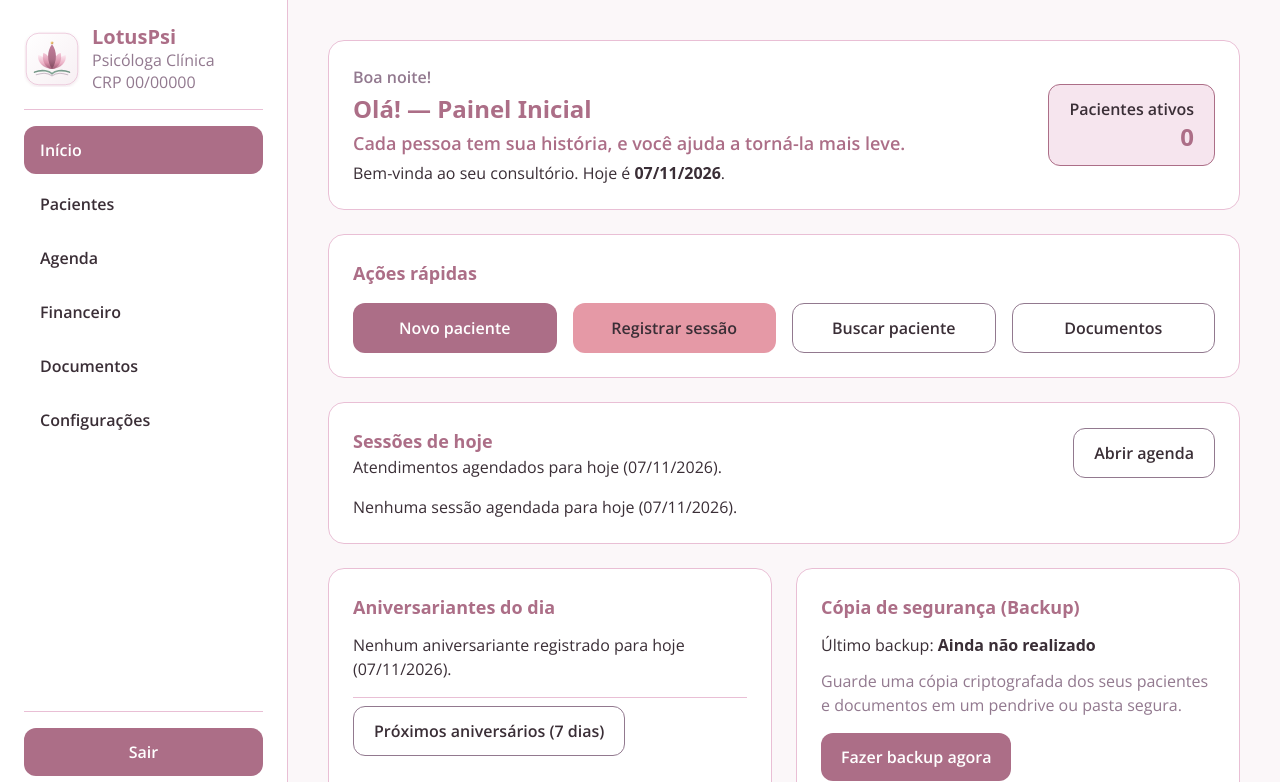
Scenario: Painel Inicial T04 (F2-T3) › navega pelos atalhos do painel em apenas 1 clique para cada área principal
Expected: the heading "Olá! — Painel Inicial" is shown, x1=353 y1=92 x2=592 y2=125
// 1 clique no atalho "Novo paciente" leva direto ao formulário T06
Click the button "Novo paciente" at coordinates (455, 328), box x1=353 y1=303 x2=556 y2=353
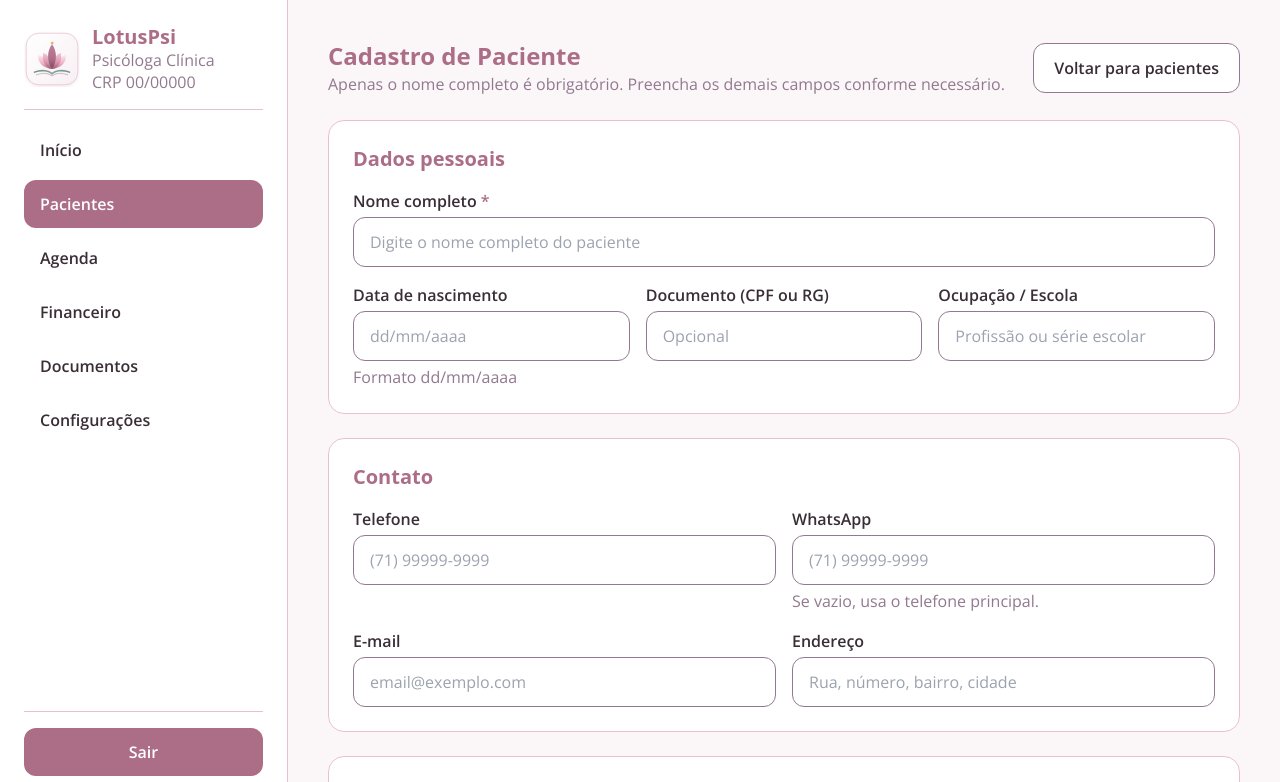
Now the heading "Cadastro de Paciente" is shown, box x1=328 y1=39 x2=581 y2=72
// Volta ao Início em 1 clique na Sidebar
Click the link "Início" at coordinates (61, 150), box x1=40 y1=139 x2=82 y2=161
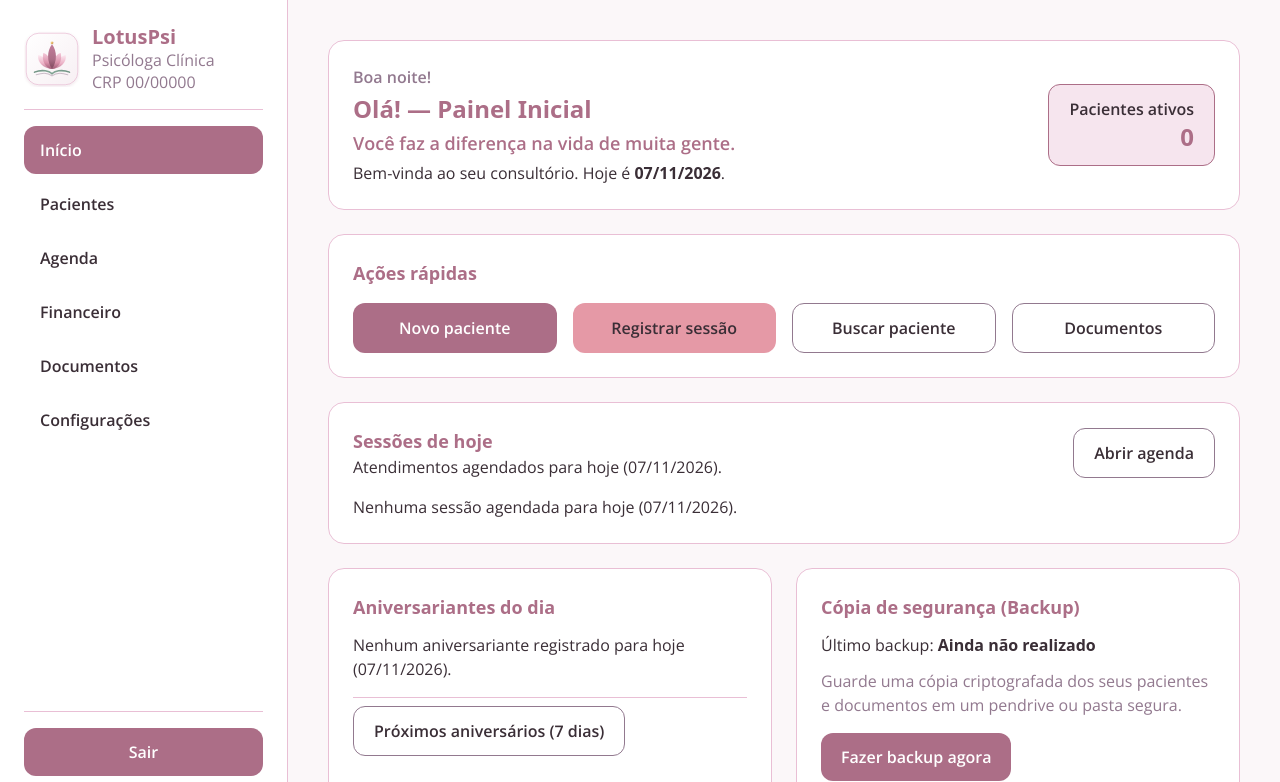
Now the heading "Olá! — Painel Inicial" is shown, box x1=353 y1=92 x2=592 y2=125
// 1 clique no atalho "Buscar paciente" leva à lista de pacientes T05
Click the button "Buscar paciente" at coordinates (894, 328), box x1=792 y1=303 x2=996 y2=353
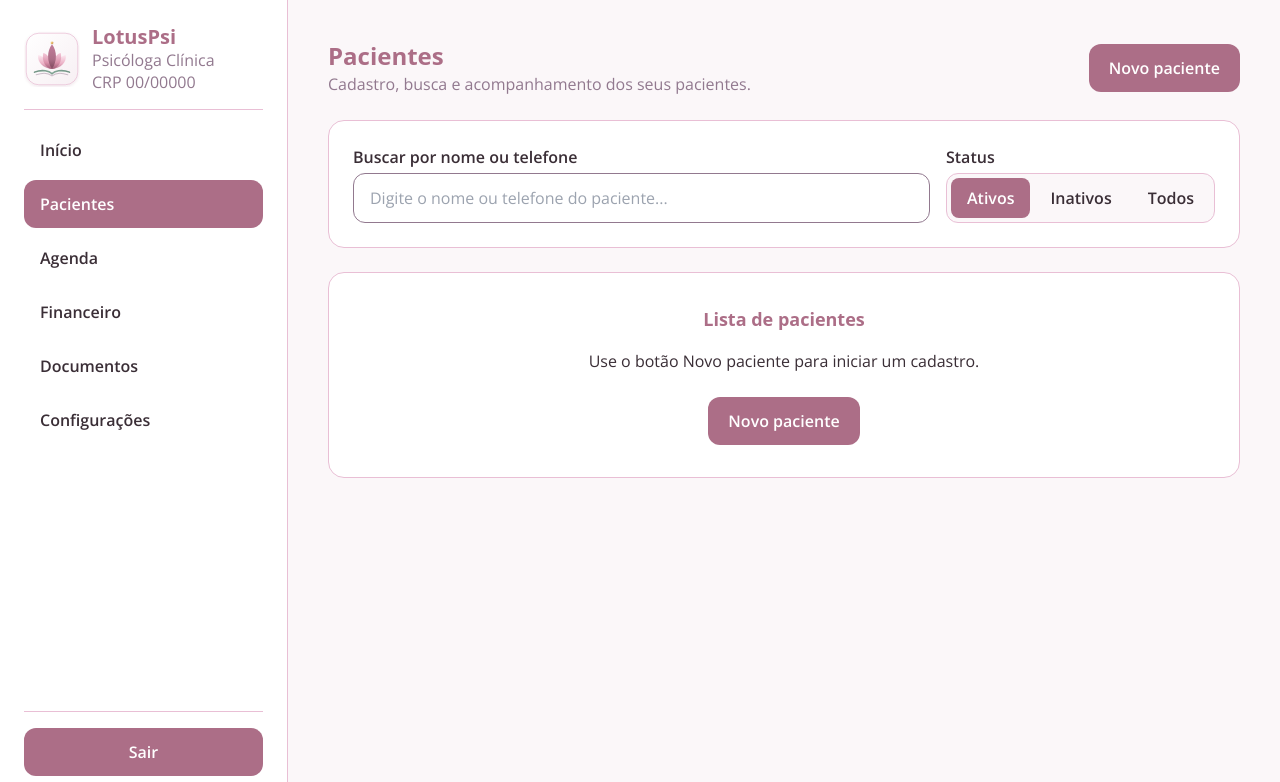
Now the heading "Pacientes" is shown, box x1=328 y1=39 x2=444 y2=72
